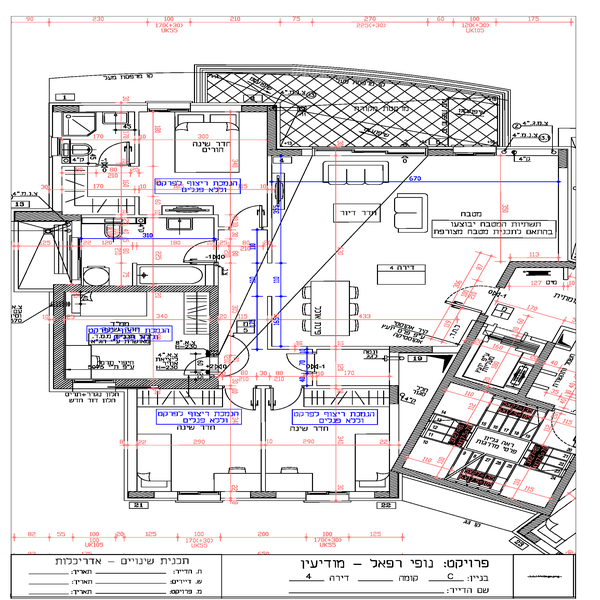door: (440, 278, 499, 315), (217, 381, 258, 414), (220, 202, 269, 228), (177, 240, 222, 266), (180, 358, 226, 382), (274, 386, 308, 416), (280, 350, 320, 373), (103, 144, 135, 169)
room: (269, 144, 576, 274), (104, 378, 406, 503), (49, 97, 285, 212), (51, 277, 219, 394)
wall: (58, 280, 219, 299), (119, 389, 141, 502), (49, 282, 69, 391), (111, 374, 218, 393), (262, 100, 287, 157), (207, 281, 225, 358), (390, 384, 400, 458), (225, 491, 323, 498)
window: (358, 142, 427, 164), (13, 202, 70, 224), (144, 97, 193, 115), (175, 486, 223, 503), (73, 375, 117, 392), (306, 487, 349, 504)
